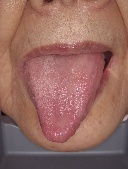tongue: (22, 57, 105, 145)
